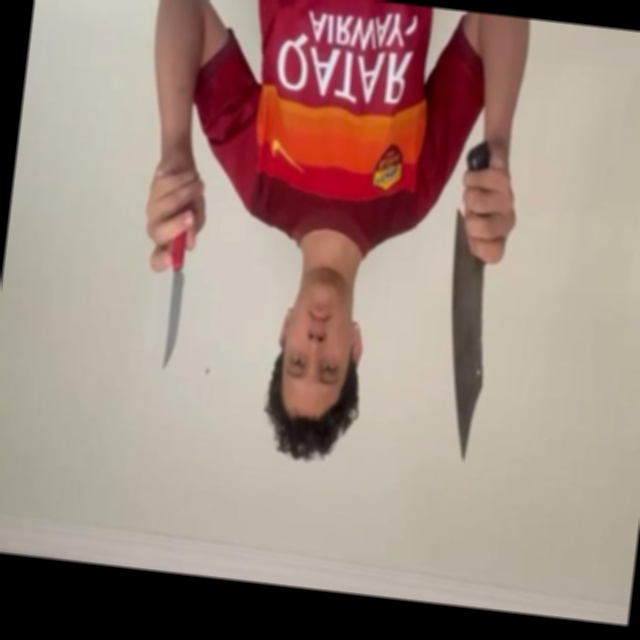Sharp-Object: (428, 213, 502, 467), (159, 270, 186, 370)
